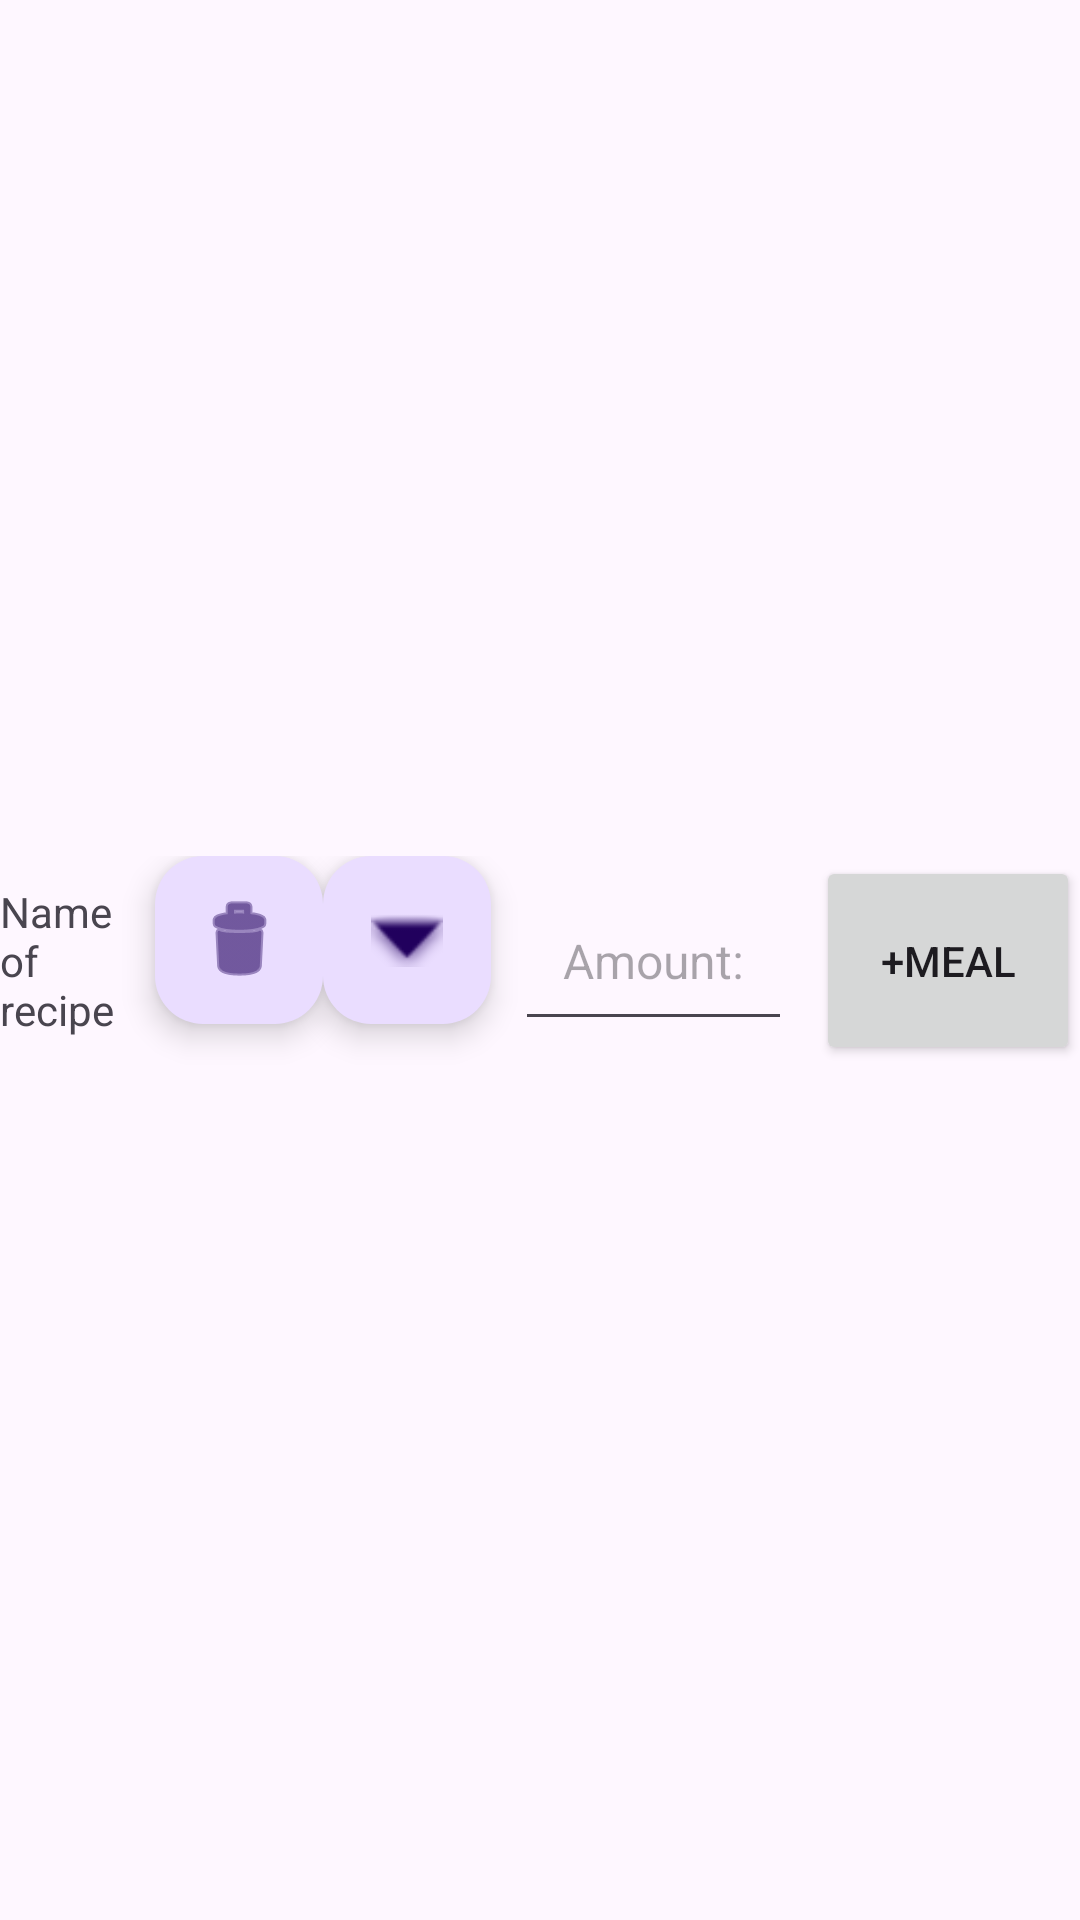

Icon bounding boxes for this 1080×1920 phone screenshot, format (x1, y1, x2, y2):
arrow down float: (323, 856, 491, 1024)
delete: (155, 856, 323, 1024)
